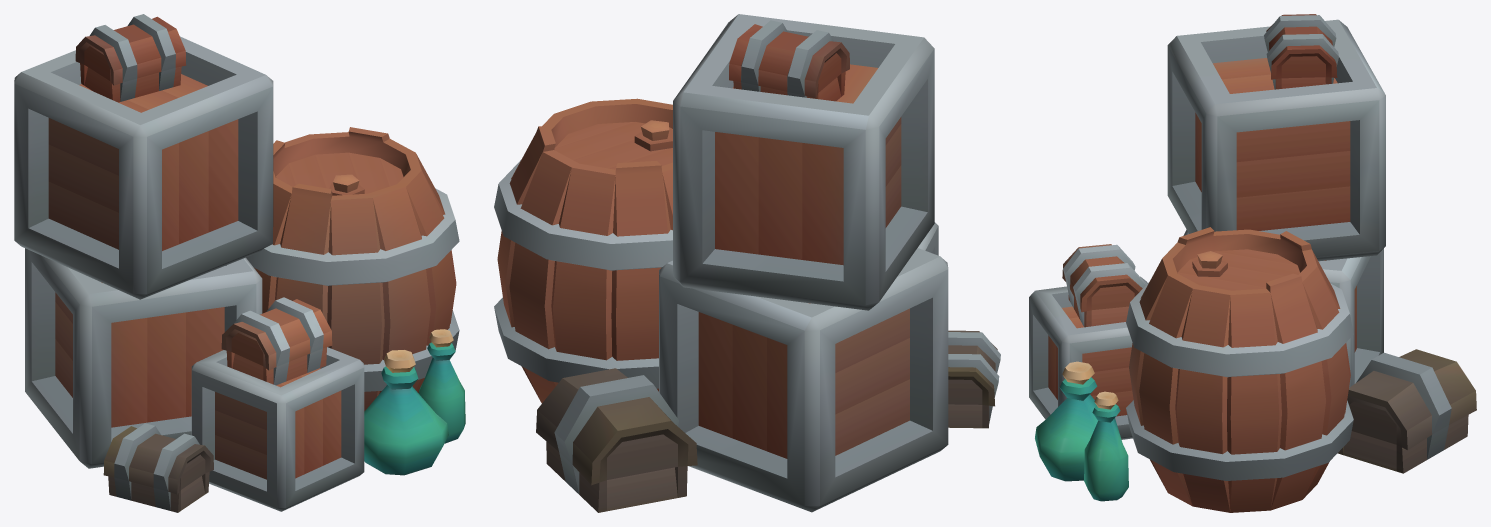
The model's file is box_stacked.glb.
The picture shows the model from 3 angles, left to right: view 1: azimuth 30°, elevation 25°; view 2: azimuth 150°, elevation 25°; view 3: azimuth 270°, elevation 25°; orthographic projection. The views are drawn at different scales.
Visible parts, largest first — view 1: box_stacked; view 2: box_stacked; view 3: box_stacked.
Part boxes in pixels (x1,y1,x2,y2): box_stacked: (14,14,465,512); box_stacked: (494,14,1000,512); box_stacked: (1029,14,1476,512).
Size of the model in its own units: 3.48 by 3.31 by 3.63.
Materials: 1 (1 with a texture image).
